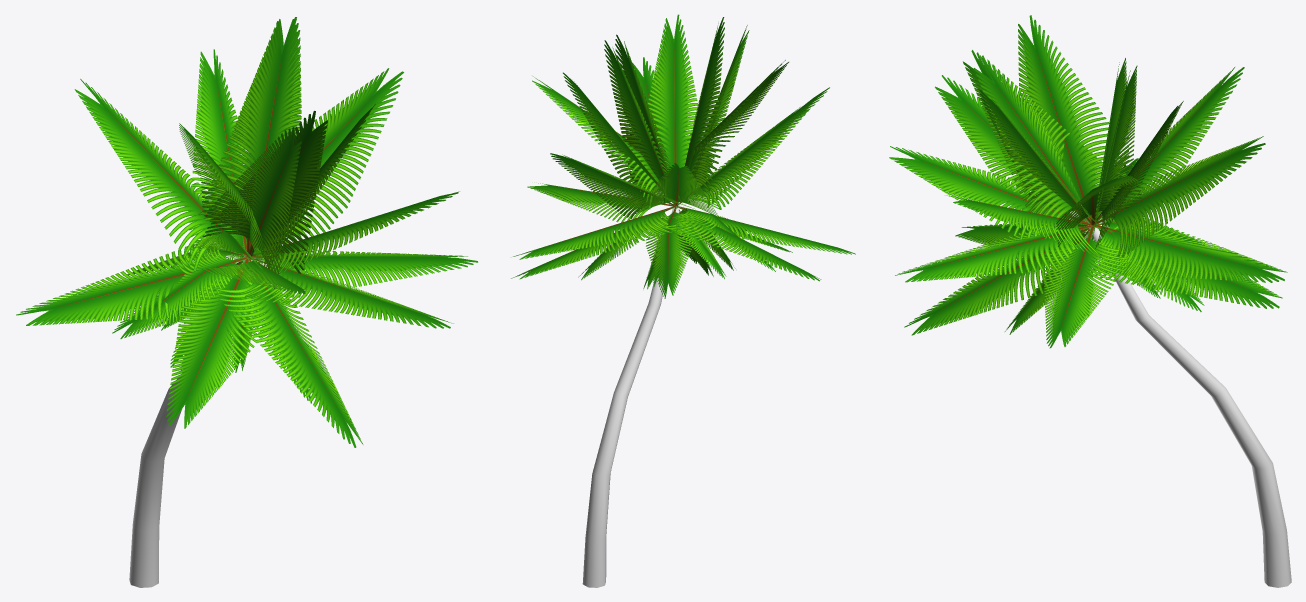
File: Palm2_LOD1.fbx
The picture shows the model from 3 angles, left to right: view 1: azimuth 30°, elevation 25°; view 2: azimuth 150°, elevation 25°; view 3: azimuth 270°, elevation 25°; orthographic projection. The views are drawn at different scales.
Parts seen in each view (by area): view 1: Palm2_LOD1; view 2: Palm2_LOD1; view 3: Palm2_LOD1.
Boxes of the visible parts, bbox=[...] form: Palm2_LOD1: bbox=[16, 17, 478, 587]; Palm2_LOD1: bbox=[511, 14, 855, 587]; Palm2_LOD1: bbox=[889, 15, 1291, 587].
Bounding box in the file's own units: 893 × 1260 × 845.
